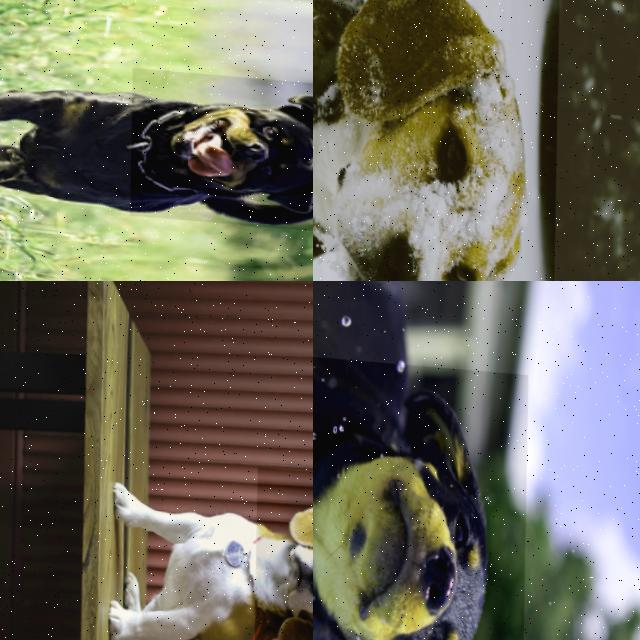beagle: (313, 0, 573, 281), (238, 465, 313, 640)
rottweiler: (313, 351, 541, 640), (118, 66, 313, 232)
